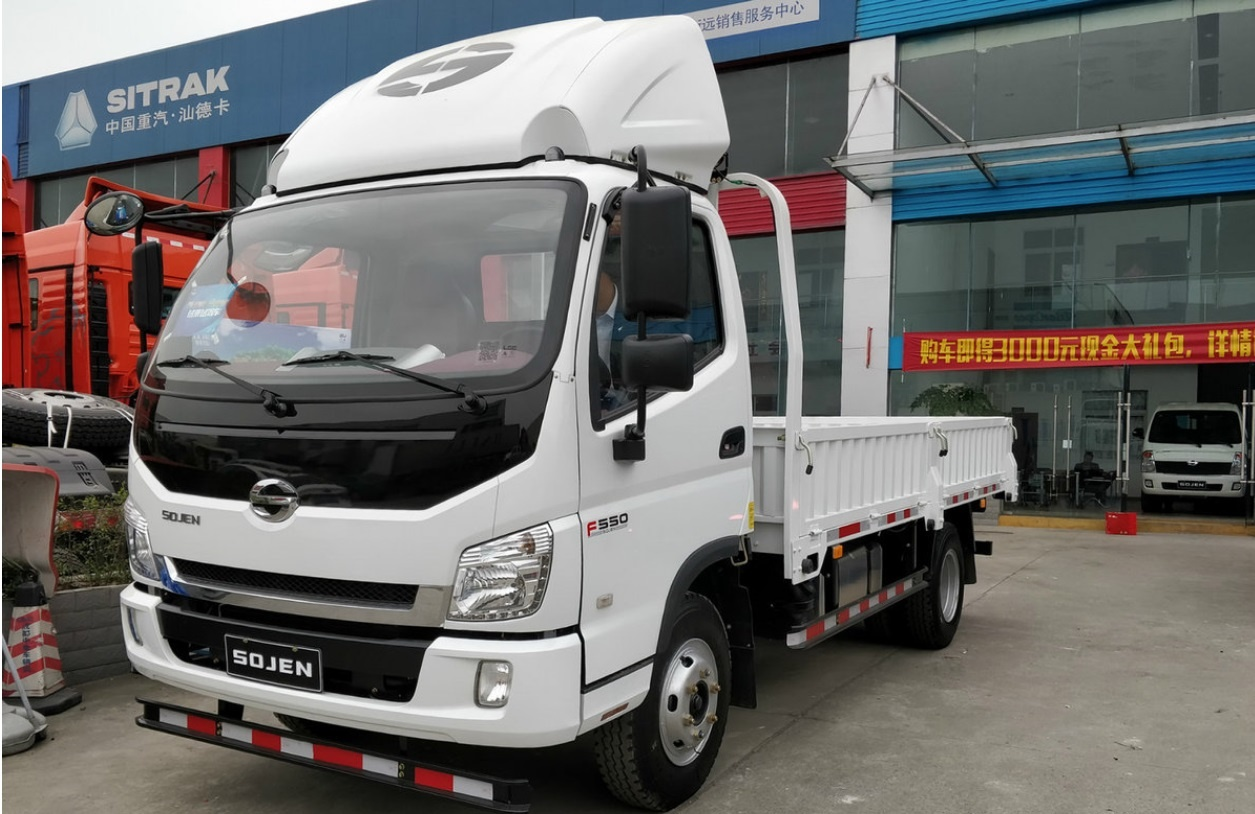truck: (124, 18, 1019, 784)
